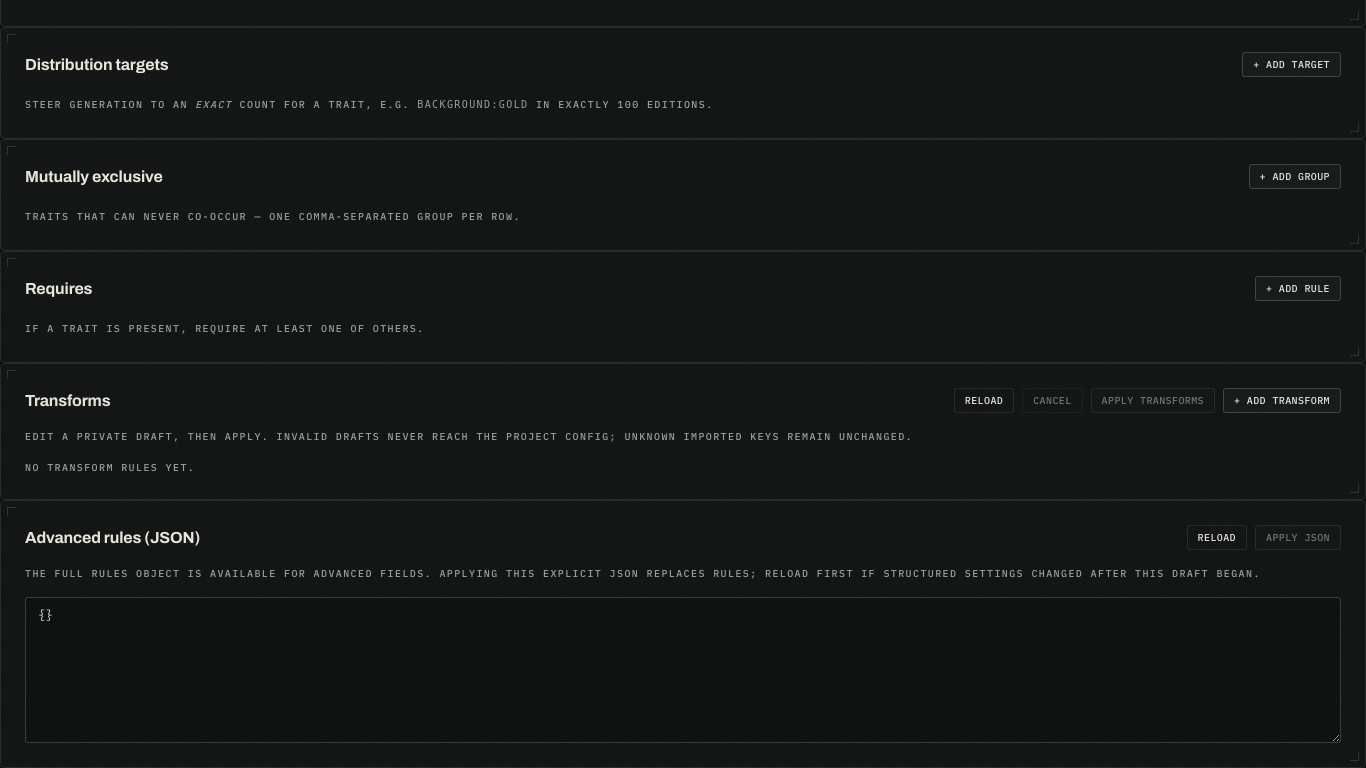
RulesEditor › rejects an array as the rules object
(page scrolled)
Replace the text in the text box named "Rules JSON" with "[]": (683, 670) top-left (25, 597), bottom-right (1341, 743)
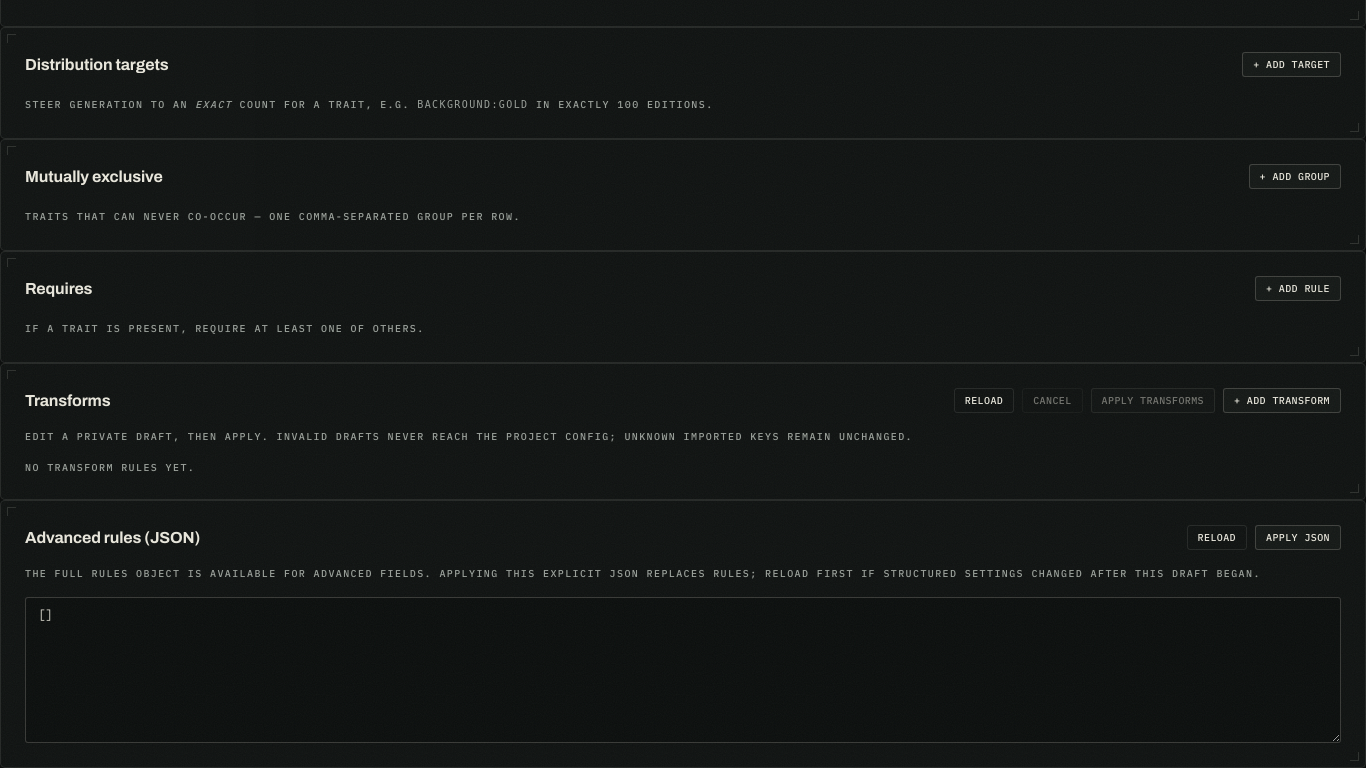
Click the button "Apply JSON": (1298, 538) top-left (1255, 525), bottom-right (1341, 550)
(page scrolled)
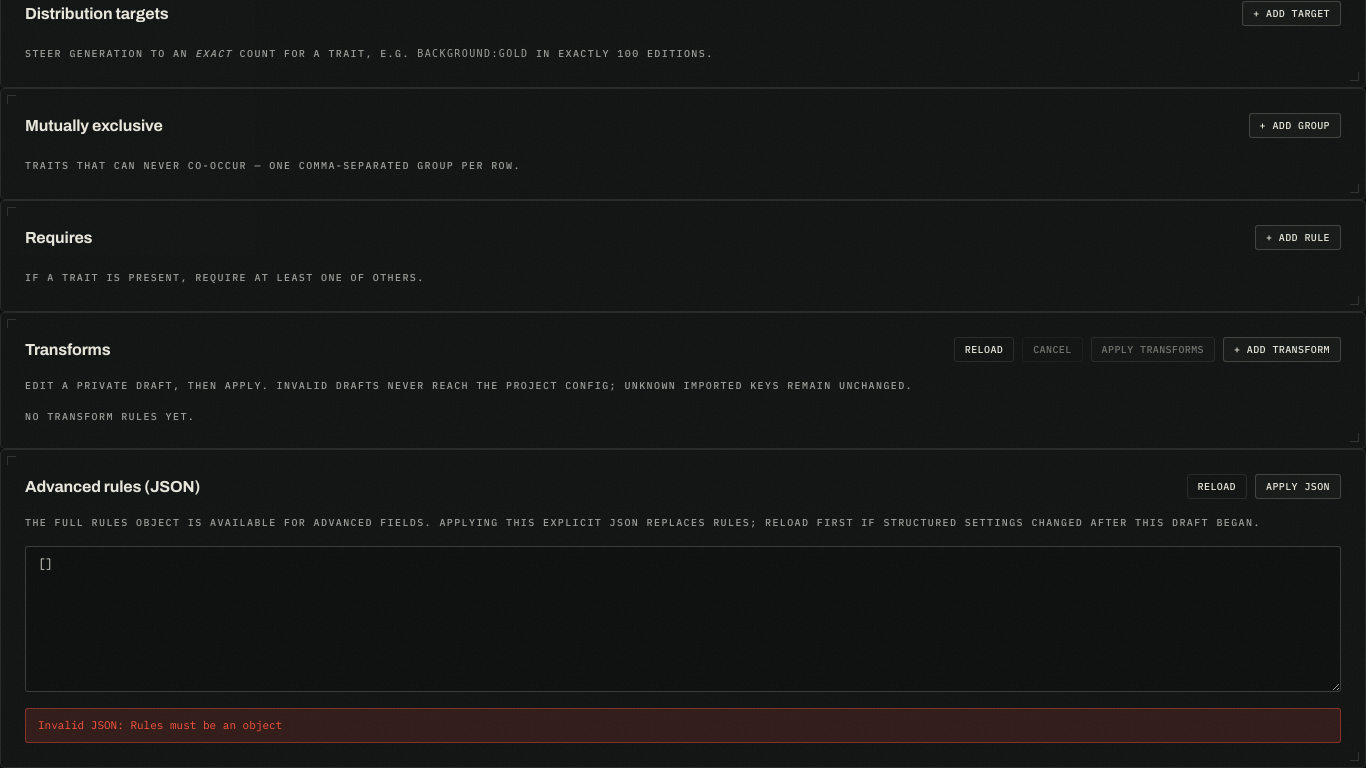
Check: the message shows "Rules must be an object", box top-left (130, 718), bottom-right (282, 732)
